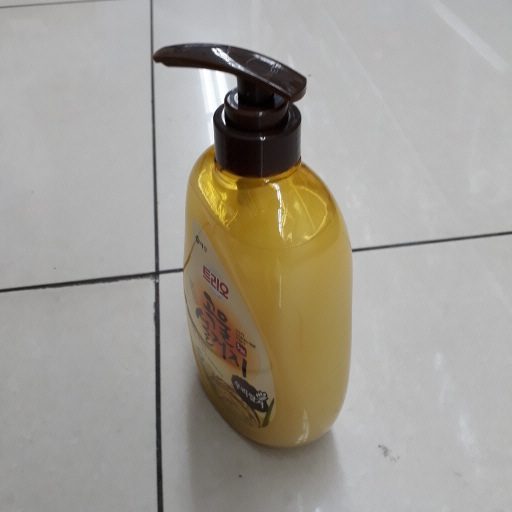Plastic_3: (152, 44, 353, 453)
